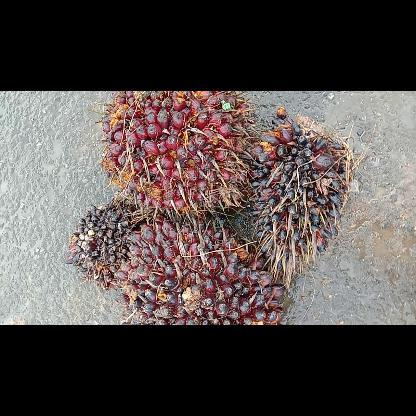Kurang masak: (115, 218, 284, 324)
TBS abnormal: (250, 113, 350, 269), (66, 197, 152, 289)
TBS masak: (101, 90, 251, 218)
